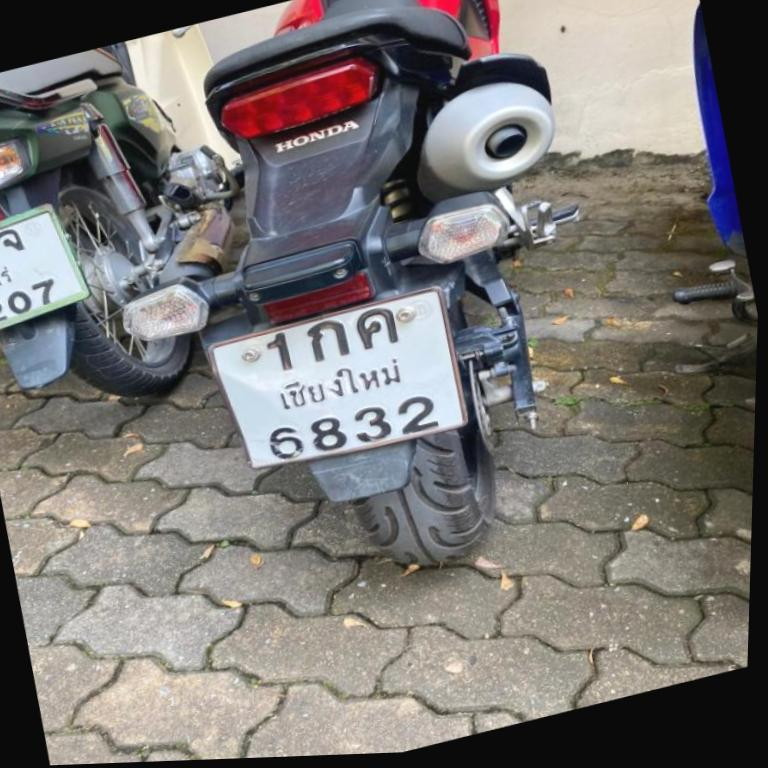license plate: (200, 278, 477, 490), (0, 190, 105, 350)
